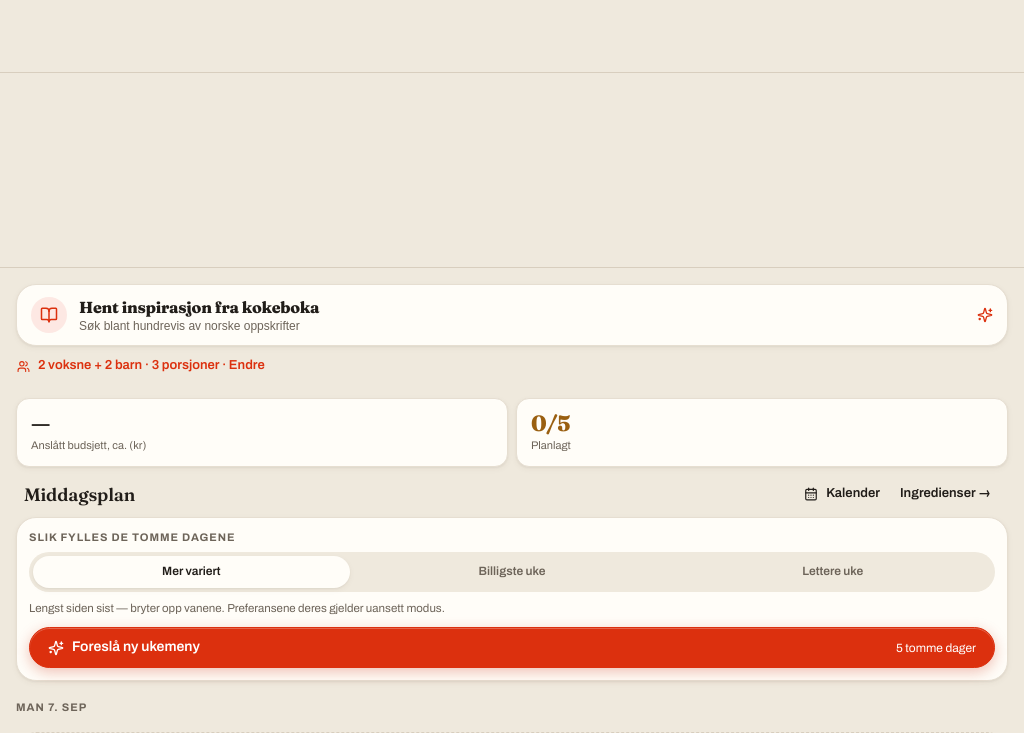
Test: Middag: forslag til planen › viser dialogen med én rad per foreslått dag, alle avhuket
Step 1. Click the button "Foreslå ny ukemeny 5 tomme dager" → (136, 647), box top-left (29, 627), bottom-right (995, 668)
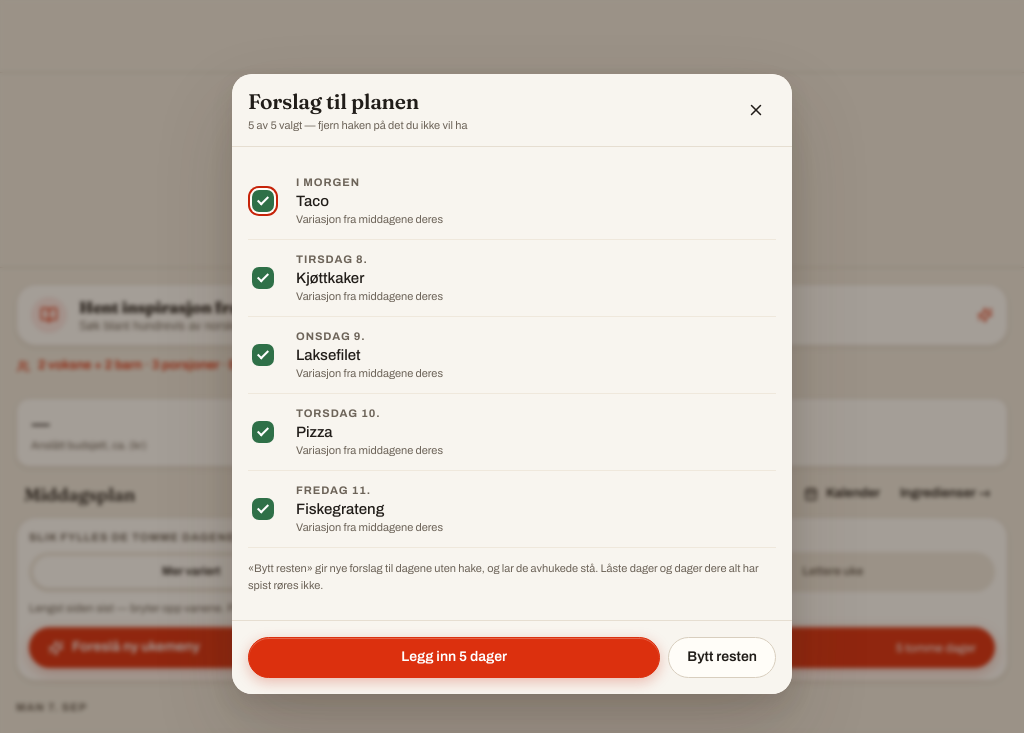
Result: the text "Forslag til planen" is shown at top-left (248, 88), bottom-right (419, 114)
Result: the number of checkboxes is 5 at top-left (252, 190), bottom-right (274, 212); top-left (252, 267), bottom-right (274, 289); top-left (252, 344), bottom-right (274, 366); top-left (252, 421), bottom-right (274, 443); top-left (252, 498), bottom-right (274, 520)
Result: the button "Legg inn 5 dager" is shown at top-left (248, 637), bottom-right (660, 678)
